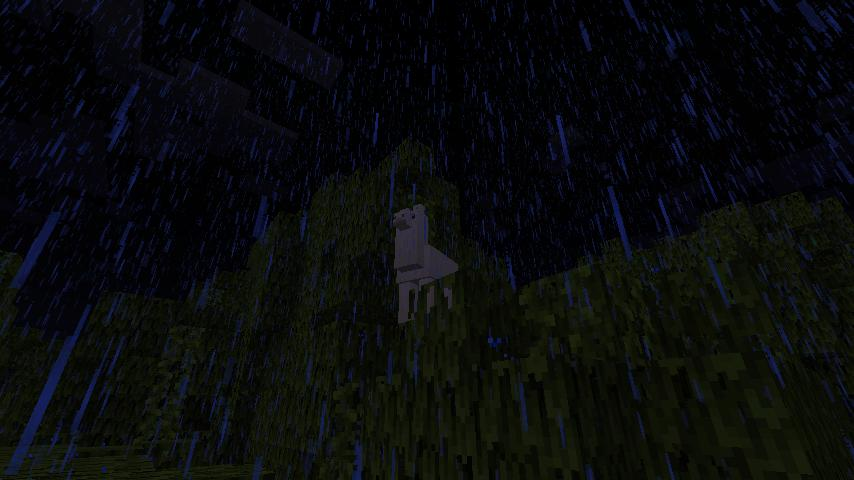llama: (391, 202, 458, 326)
